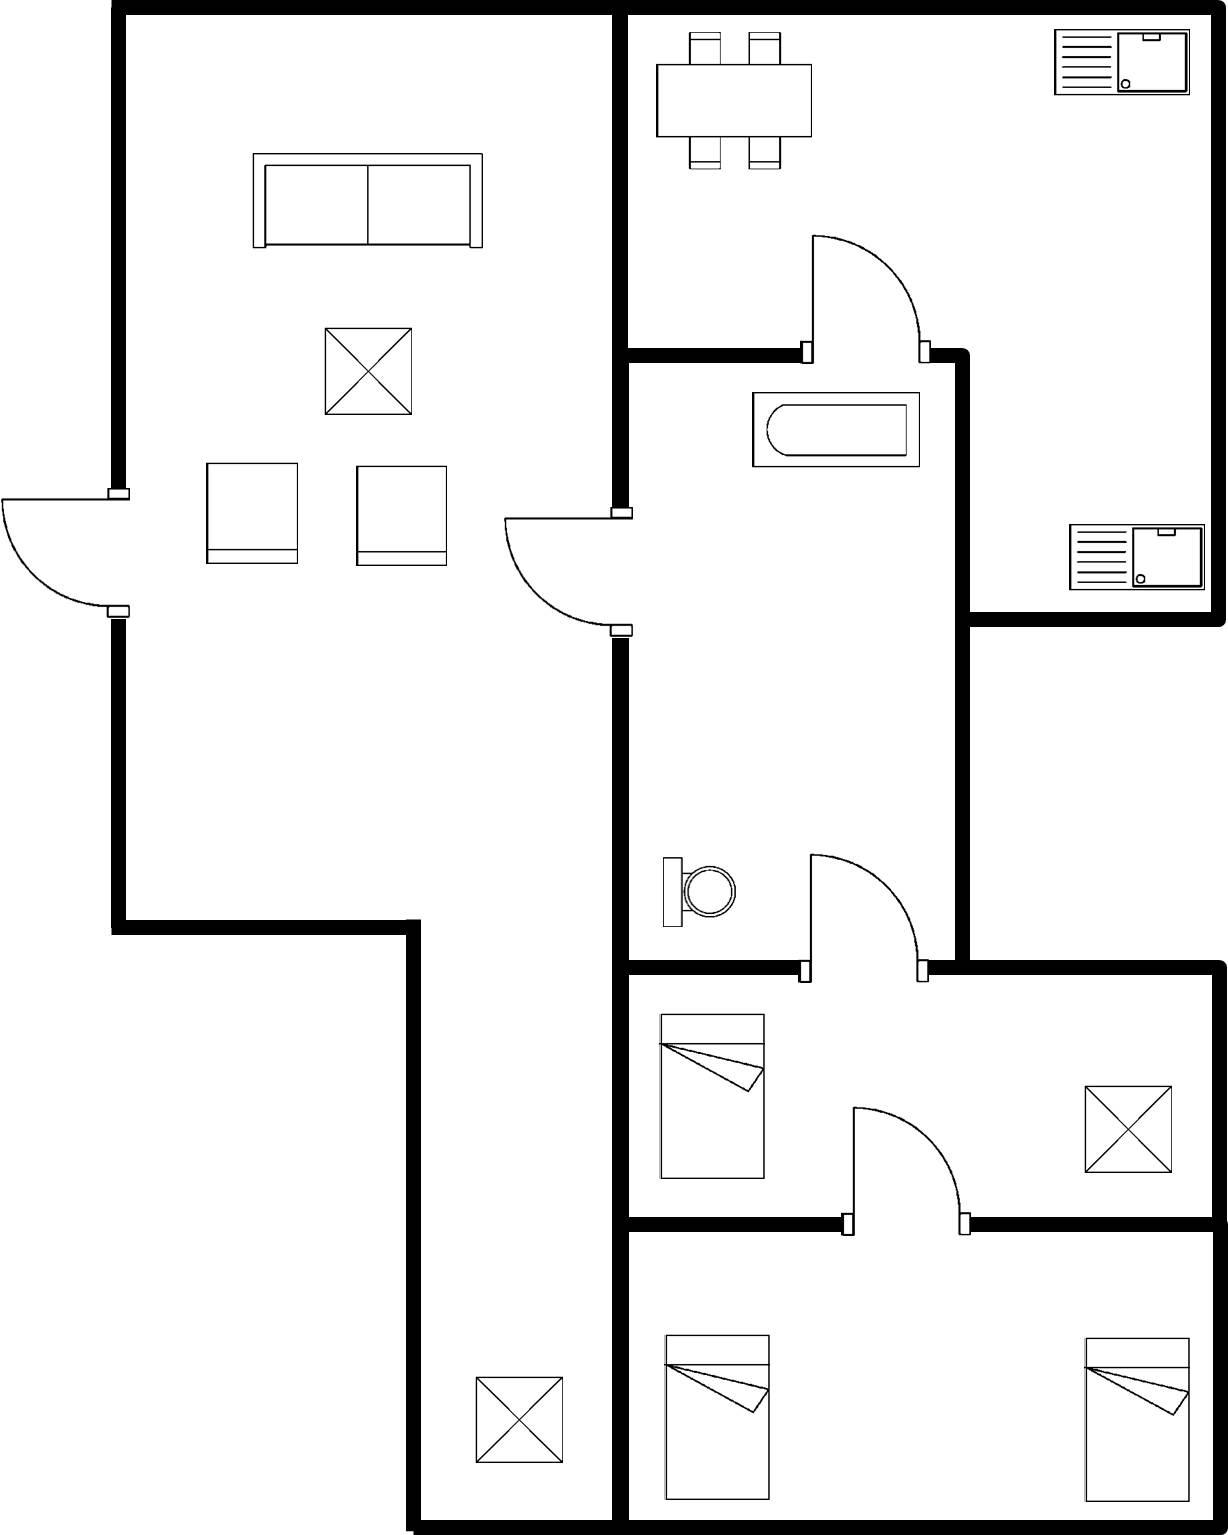bed: (648, 1006, 784, 1192), (652, 1326, 789, 1507), (1073, 1326, 1197, 1511)
dining_table: (642, 21, 825, 180)
sink: (1053, 507, 1204, 599), (1045, 20, 1200, 108)
sofa: (237, 135, 501, 262)
toilet: (652, 840, 746, 936)
tub: (737, 378, 931, 477)
